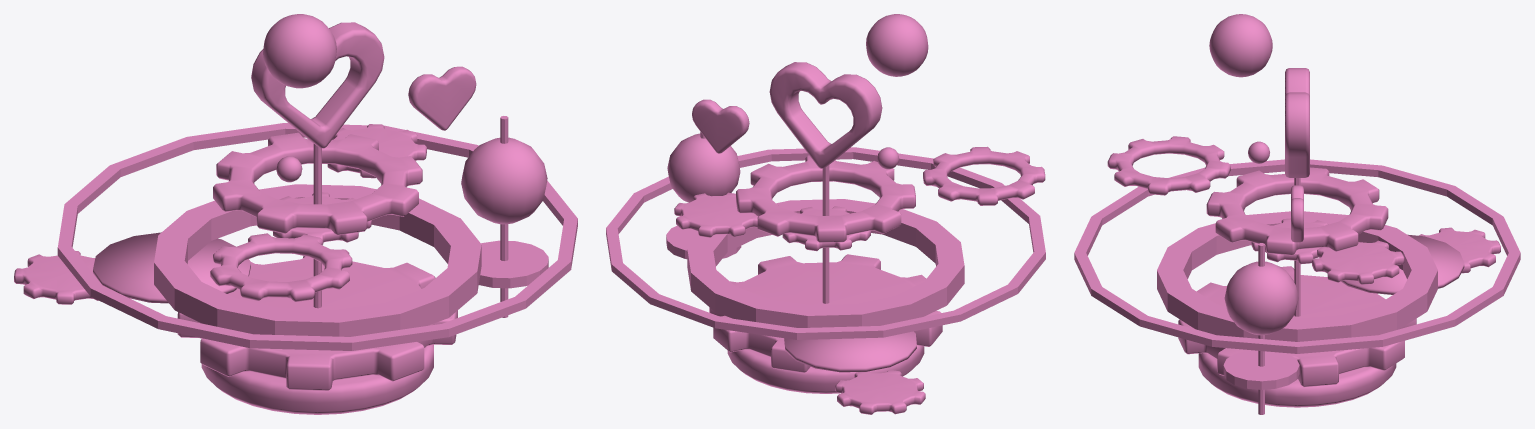
The model's file is WABD_backgrounds_mainmachine_up_lo.fbx.
3 renders of one model, left to right at view 1: azimuth 30°, elevation 25°; view 2: azimuth 150°, elevation 25°; view 3: azimuth 270°, elevation 25°, orthographic. The views are drawn at different scales.
Visible parts, largest first — view 1: mainmachine_upper_lo; view 2: mainmachine_upper_lo; view 3: mainmachine_upper_lo.
Boxes of the visible parts, bbox=[...] form: mainmachine_upper_lo: bbox=[14, 14, 577, 414]; mainmachine_upper_lo: bbox=[606, 14, 1045, 414]; mainmachine_upper_lo: bbox=[1074, 14, 1520, 414].
Size of the model in its own units: 449 by 367 by 449.
